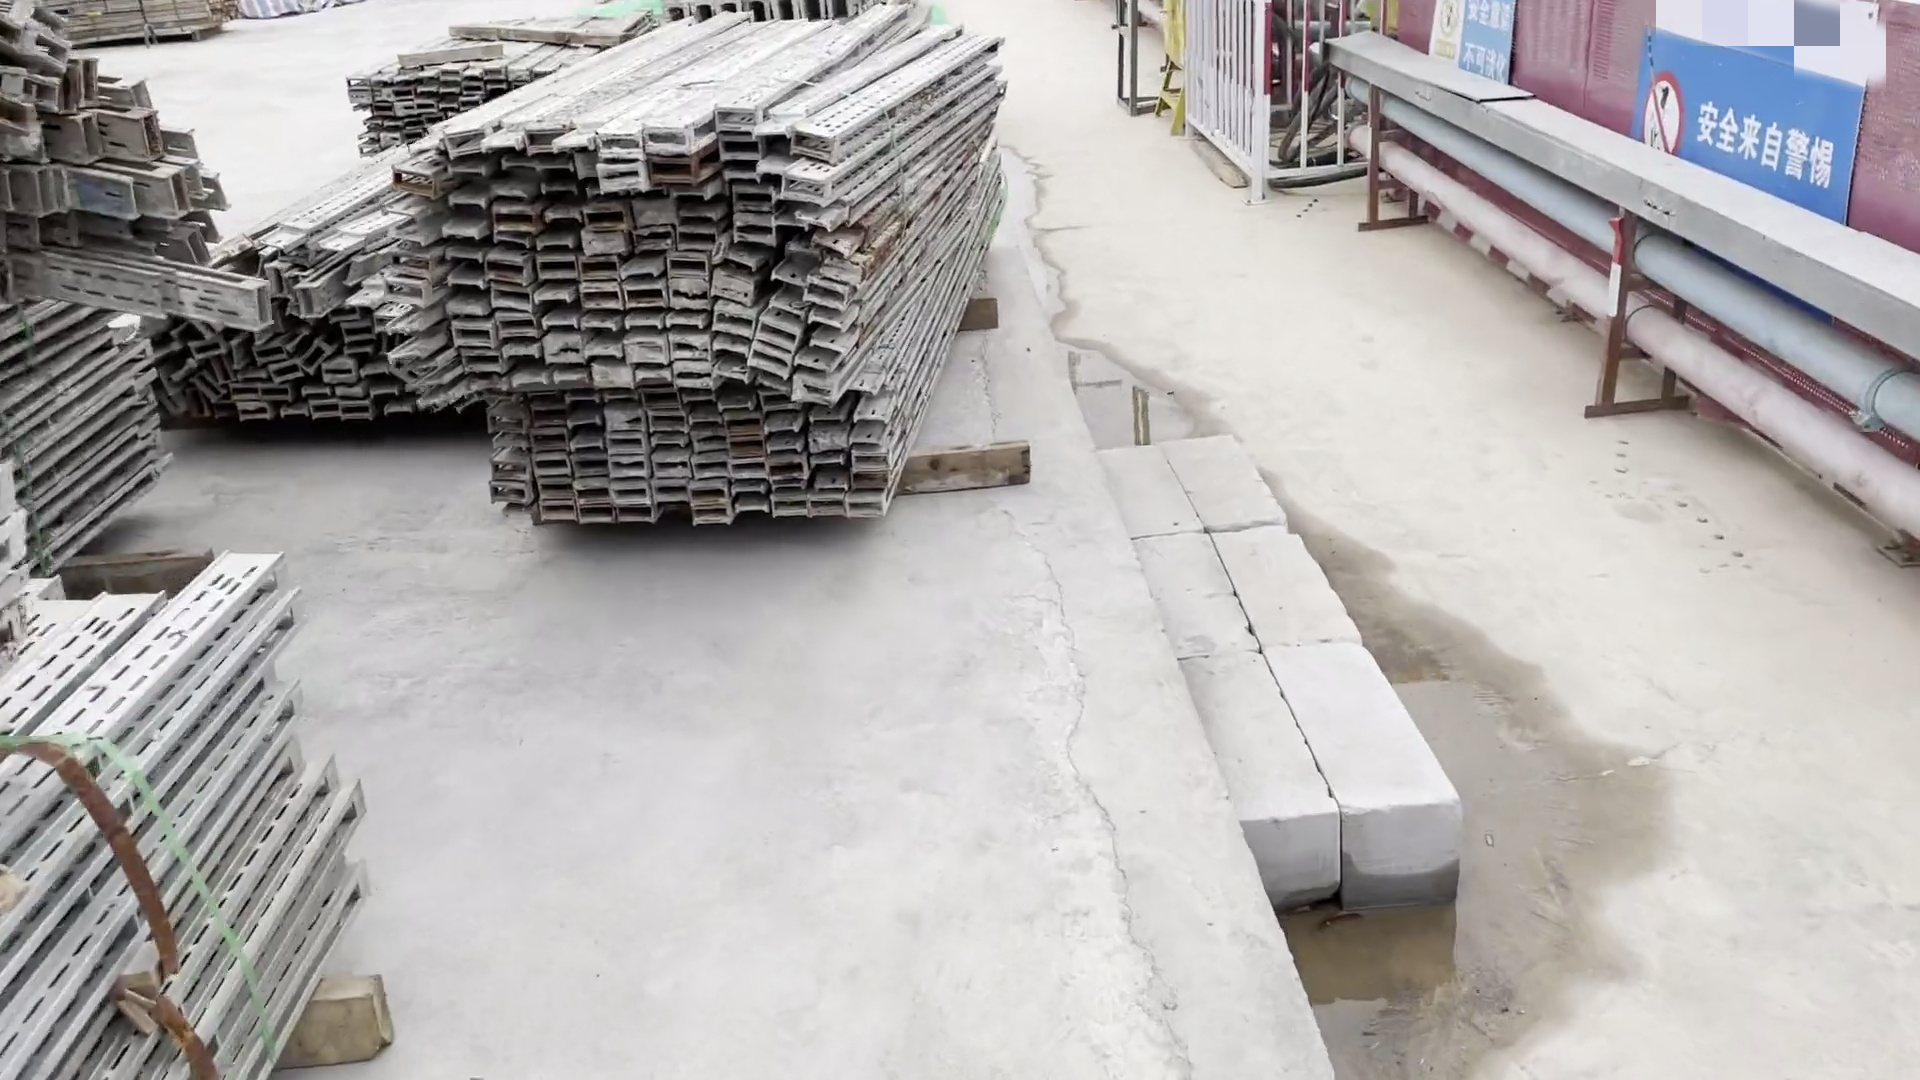brick: (1102, 429, 1509, 972)
ebox: (1145, 1, 1189, 137)
fence: (1389, 1, 1920, 280)
slogan: (1619, 1, 1898, 243), (1418, 1, 1545, 104)
